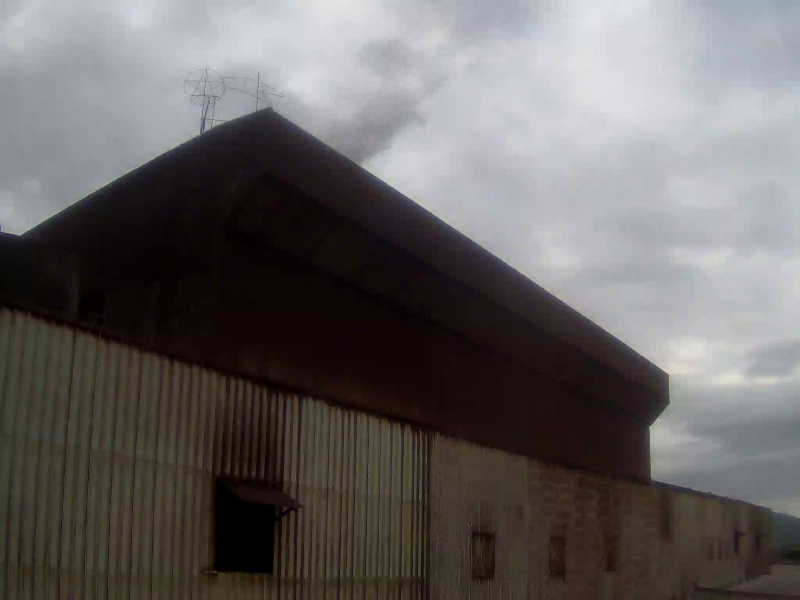bom: (10, 21, 287, 150), (621, 299, 799, 480)
ruim: (262, 96, 691, 422)
